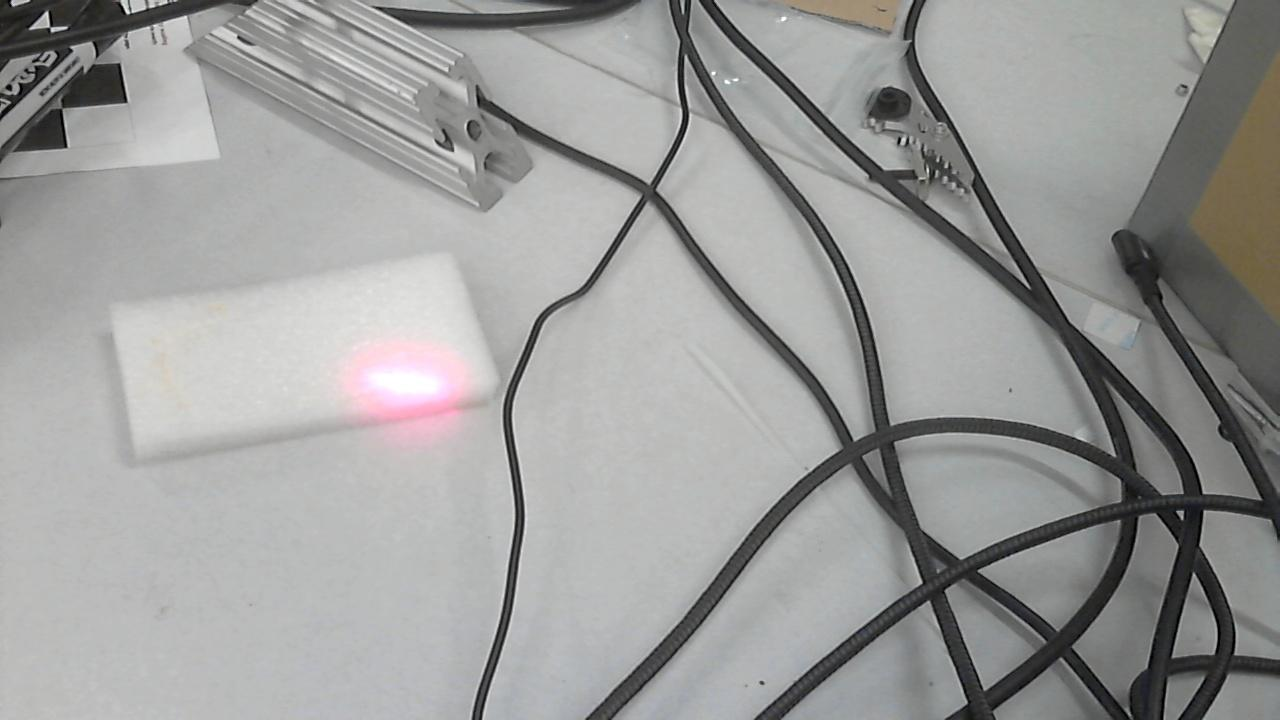Object white rectangular foam block - Material Foam - Color white - Pdfname LpbA: (334, 336, 484, 442)
